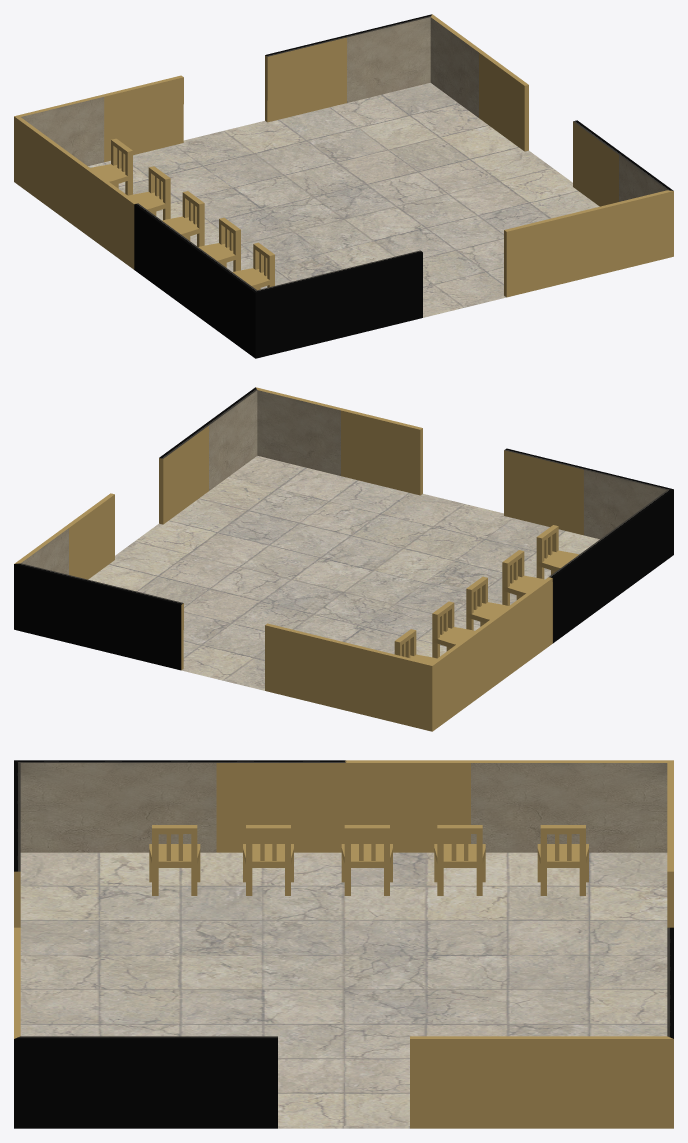
Rendered from Room_2Exit01_Type02.fbx.
3 views of the same model, one above another, from view 1: azimuth 30°, elevation 25°; view 2: azimuth 150°, elevation 25°; view 3: azimuth 270°, elevation 25° (orthographic). The views are drawn at different scales.
Visible parts, largest first — view 1: Room1x1_3Exits3, Chair03, Chair010, Chair09, Chair07, Chair08; view 2: Room1x1_3Exits3, Chair09, Chair07, Chair08, Chair03, Chair010; view 3: Room1x1_3Exits3, Chair09, Chair08, Chair010, Chair03, Chair07.
Part boxes in pixels (x1,y1,x2,y2): Room1x1_3Exits3: (14, 14, 673, 358); Chair03: (162, 191, 204, 246); Chair010: (90, 138, 132, 195); Chair09: (128, 166, 170, 220); Chair07: (198, 217, 240, 271); Chair08: (232, 242, 274, 290); Room1x1_3Exits3: (14, 387, 673, 731); Chair09: (432, 601, 474, 658); Chair07: (502, 550, 544, 605); Chair08: (536, 525, 578, 579); Chair03: (466, 576, 508, 630); Chair010: (394, 629, 436, 663); Room1x1_3Exits3: (14, 760, 673, 1128); Chair09: (434, 825, 485, 895); Chair08: (149, 825, 200, 895); Chair010: (537, 825, 588, 895); Chair03: (341, 825, 392, 895); Chair07: (243, 825, 293, 895).
Size of the model in its own units: 10 by 1.5 by 10.
